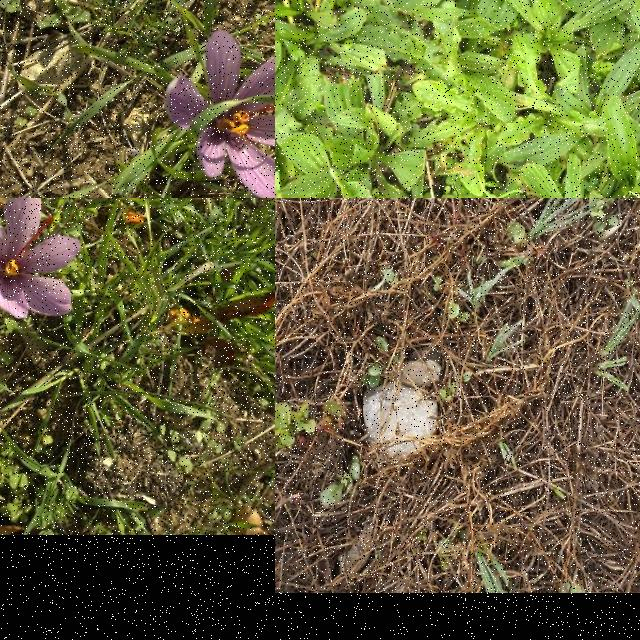flower: (164, 31, 275, 198), (0, 198, 83, 318)
